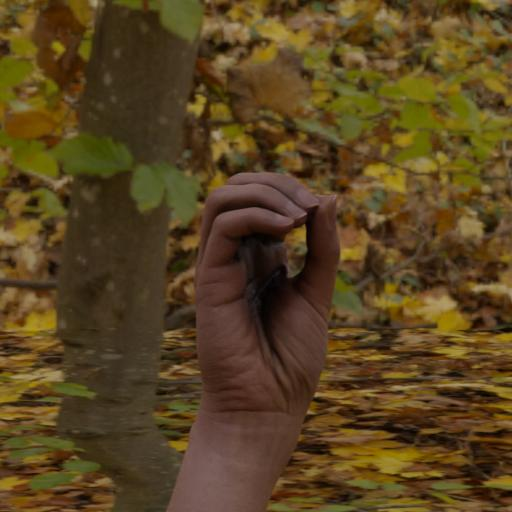O: (192, 162, 345, 425)
